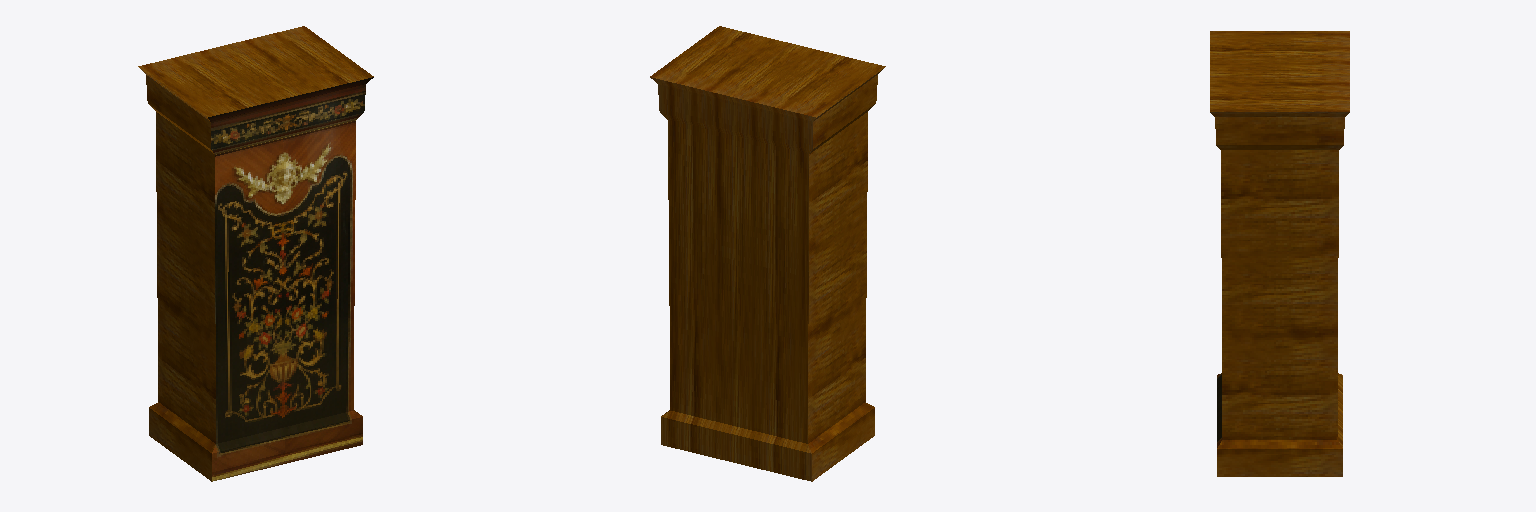
3 renders of one model, left to right at view 1: azimuth 30°, elevation 25°; view 2: azimuth 150°, elevation 25°; view 3: azimuth 270°, elevation 25°, orthographic.
Visible parts, largest first — view 1: furniture3; view 2: furniture3; view 3: furniture3.
Part boxes in pixels (left/top/right/bottom): furniture3: left=138, top=26, right=373, bottom=481; furniture3: left=650, top=26, right=885, bottom=481; furniture3: left=1210, top=31, right=1349, bottom=476.
Size of the model in its own units: 0.7741 by 1.63 by 0.5603.
1 materials, 1 textured.